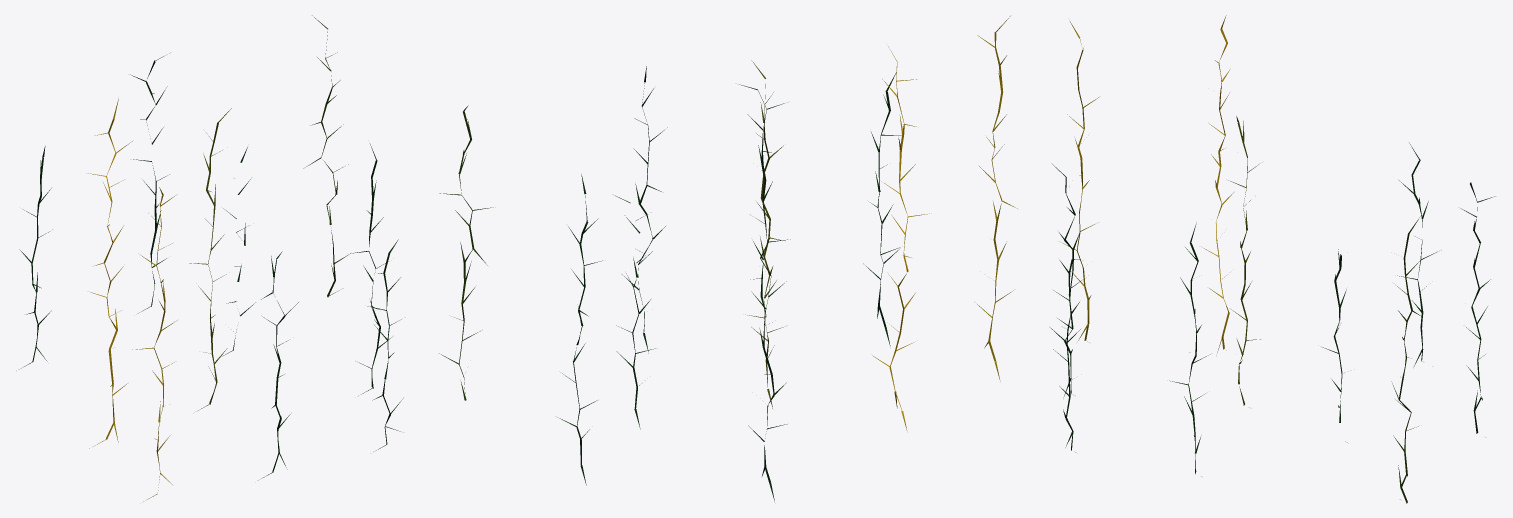
Rendered from grasstest.fbx.
3 renders of one model, left to right at view 1: azimuth 30°, elevation 25°; view 2: azimuth 150°, elevation 25°; view 3: azimuth 270°, elevation 25°, orthographic. The views are drawn at different scales.
Visible parts, largest first — view 1: geo1; view 2: geo1; view 3: geo1.
Part boxes in pixels (x1,y1,x2,y2): geo1: (19, 15, 403, 501); geo1: (439, 16, 1017, 501); geo1: (1050, 15, 1495, 503).
Bounding box in the file's own units: 10.89 × 9.63 × 11.11.
